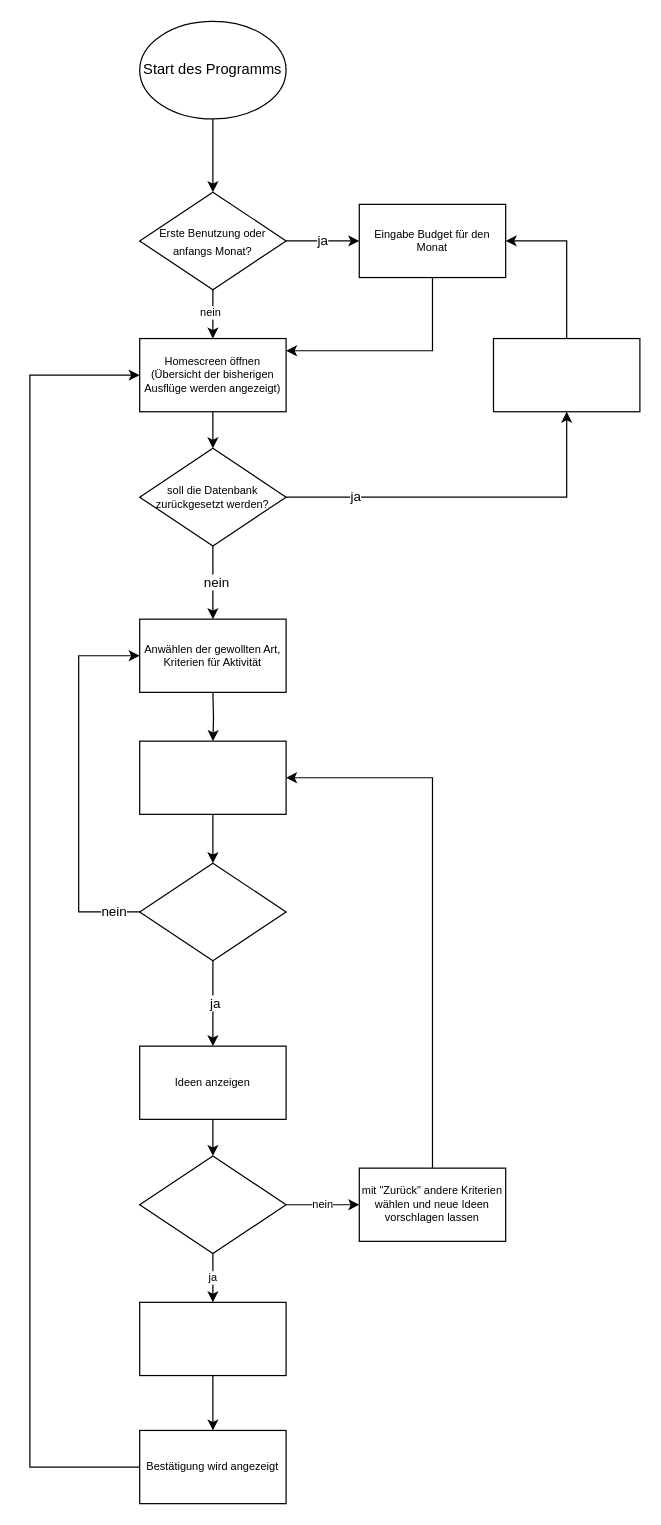
Some shapes in this 661 by 1525 pixel diagram are drawn without their labels. The box of each missing label's shape, as (x1, y1, x2, y2) in pixels:
Ausflug auswählen: (138, 740, 286, 814)
Ausflug wird in die Datenbank gebucht und von Budget abgezogen: (138, 1301, 286, 1376)
Datenbank zurücksetzen: (492, 337, 640, 412)
Passenden Ausflug gefunden?: (138, 862, 286, 961)
Passt die Aktivität?: (138, 1155, 286, 1254)
